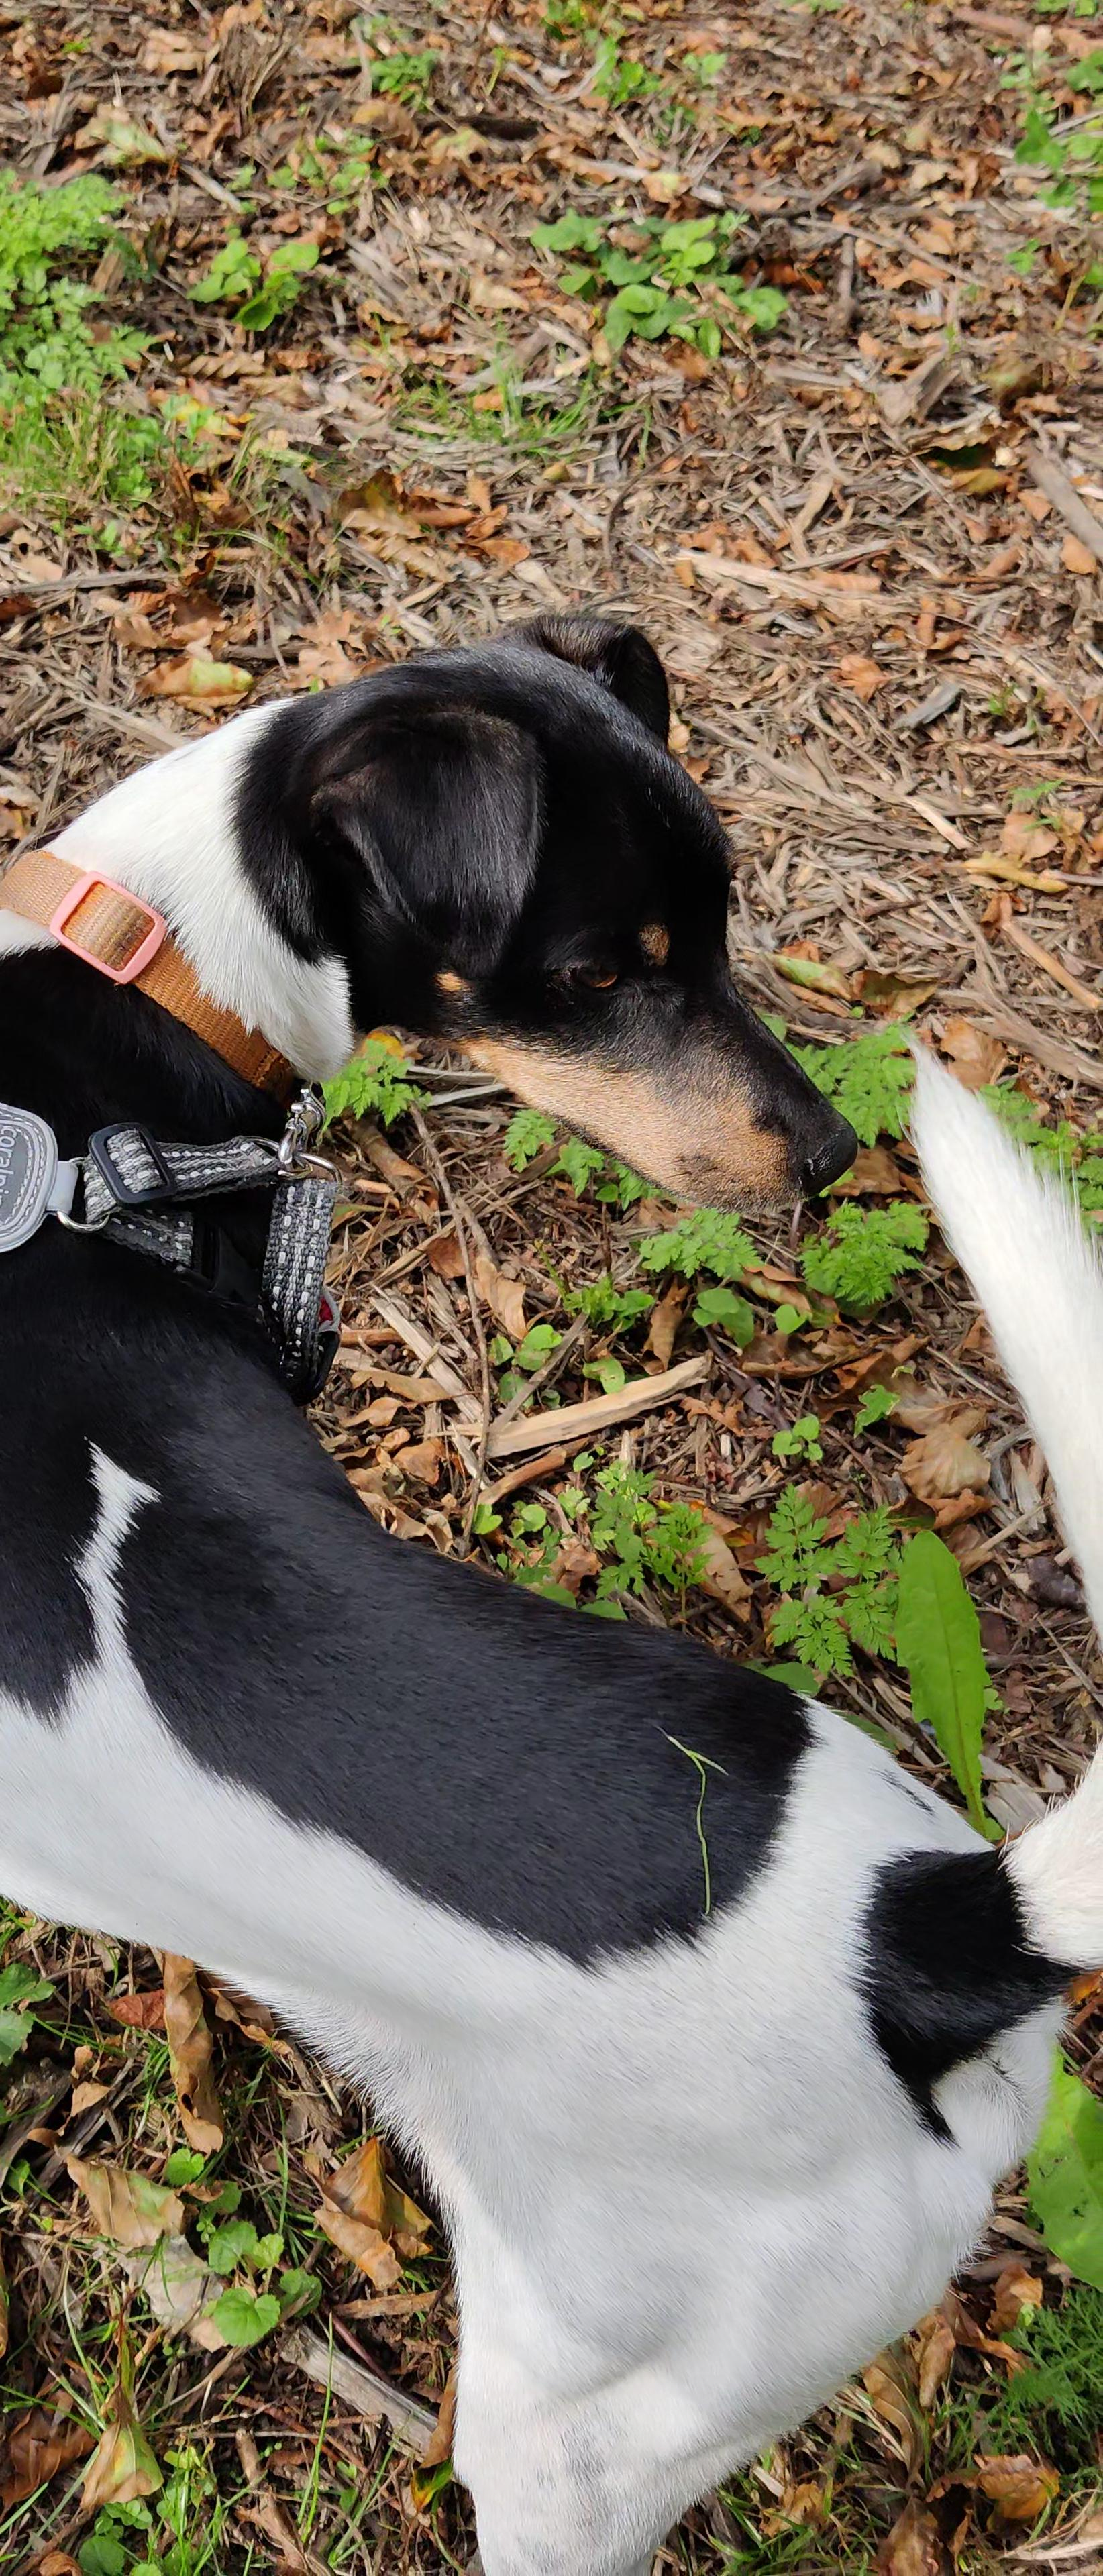Dog: (0, 603, 1103, 2576)
